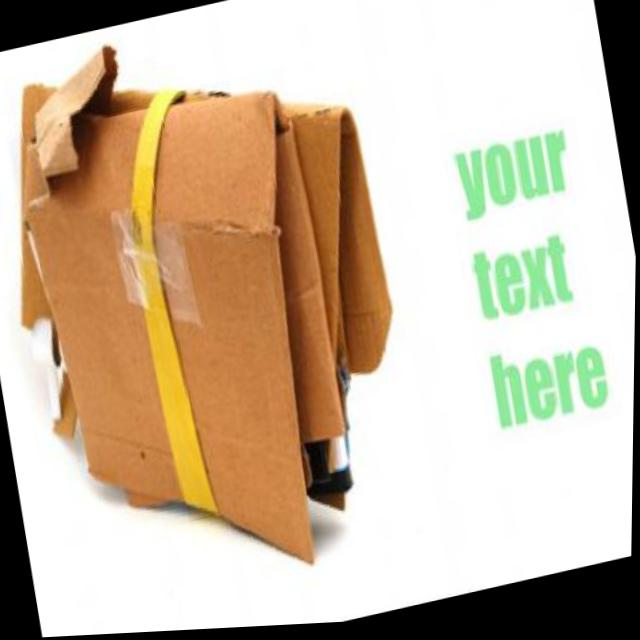box: (0, 0, 444, 628)
